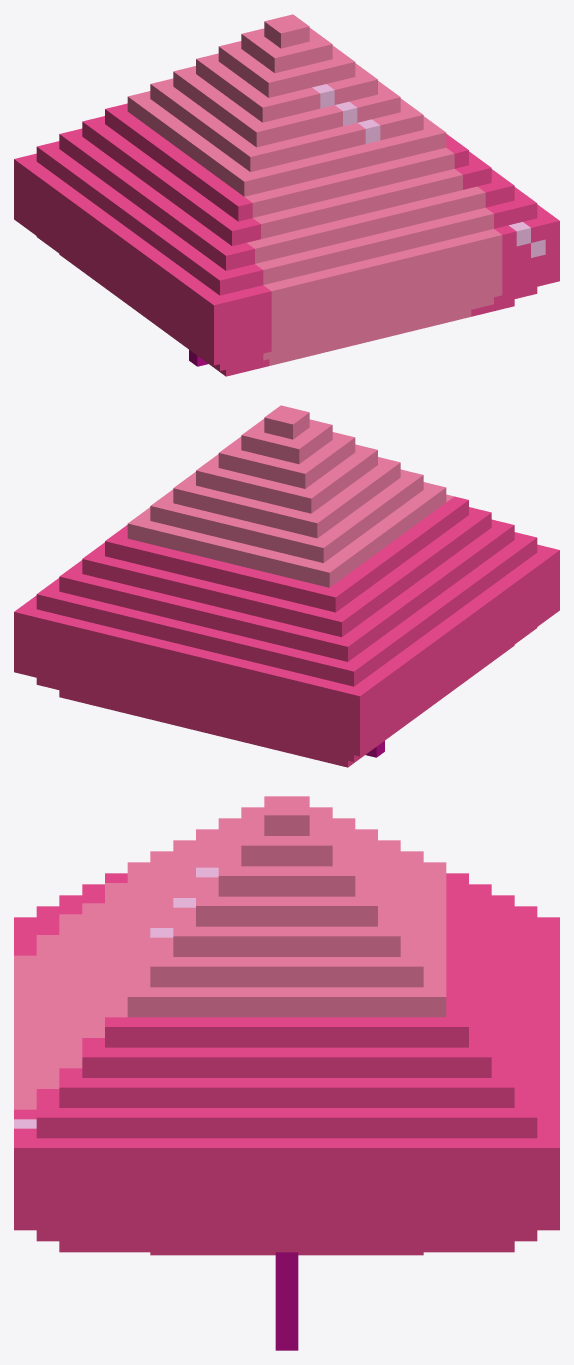
File: squid___wip.glb
The picture shows the model from 3 angles, top to bottom: view 1: azimuth 30°, elevation 25°; view 2: azimuth 150°, elevation 25°; view 3: azimuth 270°, elevation 25°; orthographic projection. The views are drawn at different scales.
Visible parts, largest first — view 1: squid; view 2: squid; view 3: squid, monture.
Boxes of the visible parts, bbox=[...] form: squid: bbox=[14, 14, 559, 376]; squid: bbox=[14, 405, 559, 767]; squid: bbox=[14, 796, 559, 1255]; monture: bbox=[275, 1252, 298, 1350].
Size of the model in its own units: 24 by 22 by 24.
12 materials, 12 textured.
